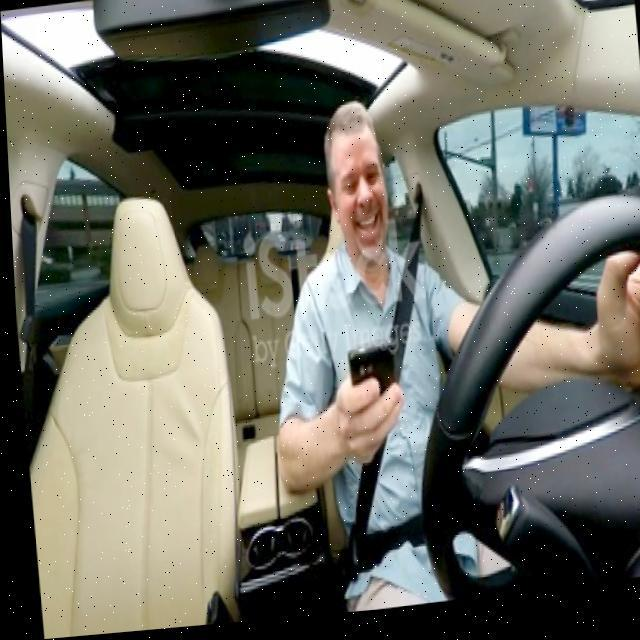PhoneCall: (343, 351, 398, 428)
